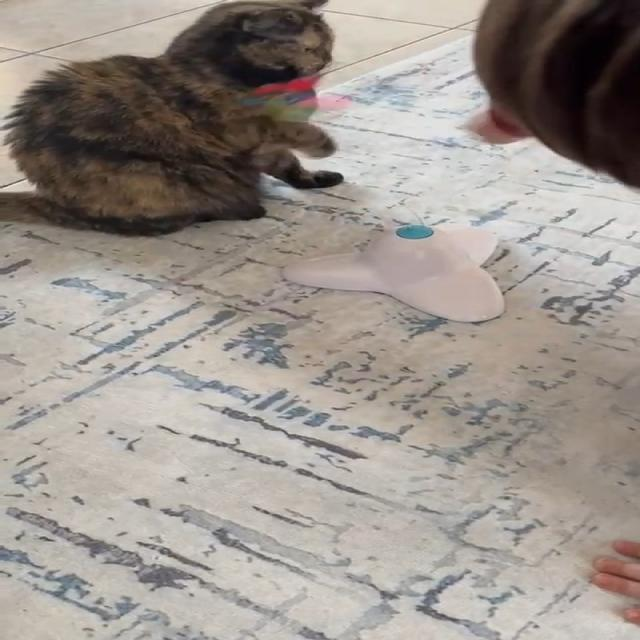authorized: (0, 0, 344, 237)
